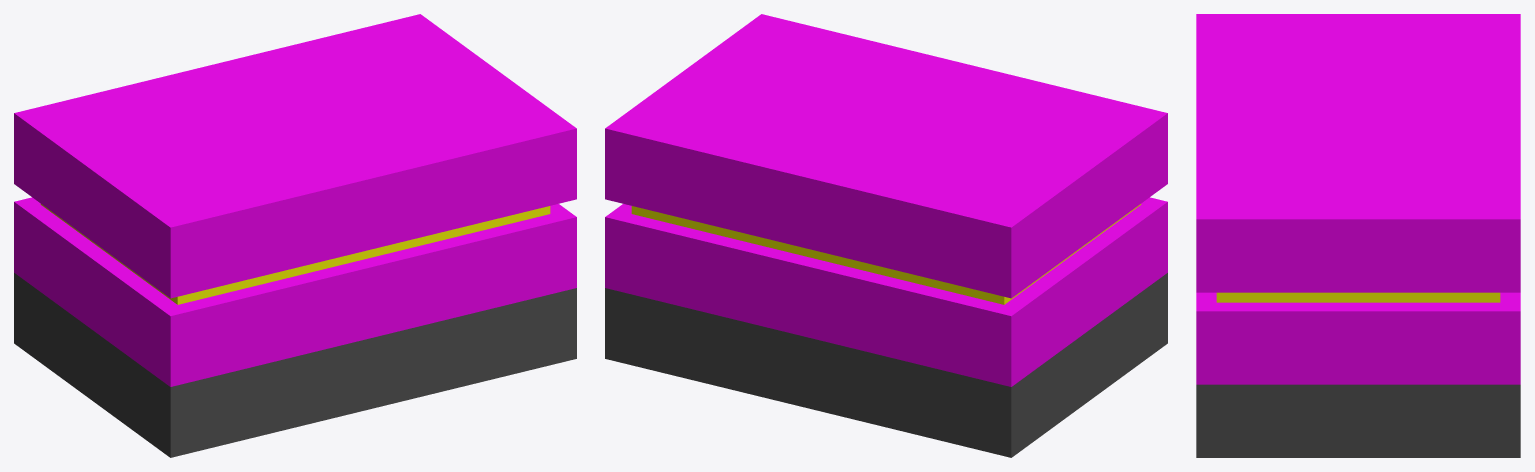
The model's file is vanguardBarracks.glb.
3 views of the same model, side by side, from view 1: azimuth 30°, elevation 25°; view 2: azimuth 150°, elevation 25°; view 3: azimuth 270°, elevation 25° (orthographic). The views are drawn at different scales.
Parts seen in each view (by area): view 1: Cube.002, Cube.003, Cube, Cube.001; view 2: Cube.002, Cube.003, Cube, Cube.001; view 3: Cube.002, Cube.003, Cube, Cube.001.
Boxes of the visible parts, x1=… form: Cube.002: x1=14, y1=14, x2=576, y2=298; Cube.003: x1=14, y1=197, x2=576, y2=386; Cube: x1=14, y1=273, x2=576, y2=457; Cube.001: x1=40, y1=204, x2=550, y2=304; Cube.002: x1=605, y1=14, x2=1167, y2=298; Cube.003: x1=605, y1=197, x2=1167, y2=386; Cube: x1=605, y1=273, x2=1167, y2=457; Cube.001: x1=631, y1=204, x2=1141, y2=304; Cube.002: x1=1196, y1=14, x2=1520, y2=292; Cube.003: x1=1196, y1=292, x2=1520, y2=384; Cube: x1=1196, y1=384, x2=1520, y2=457; Cube.001: x1=1216, y1=292, x2=1500, y2=302.
Bounding box in the file's own units: 24 × 13 × 16.
